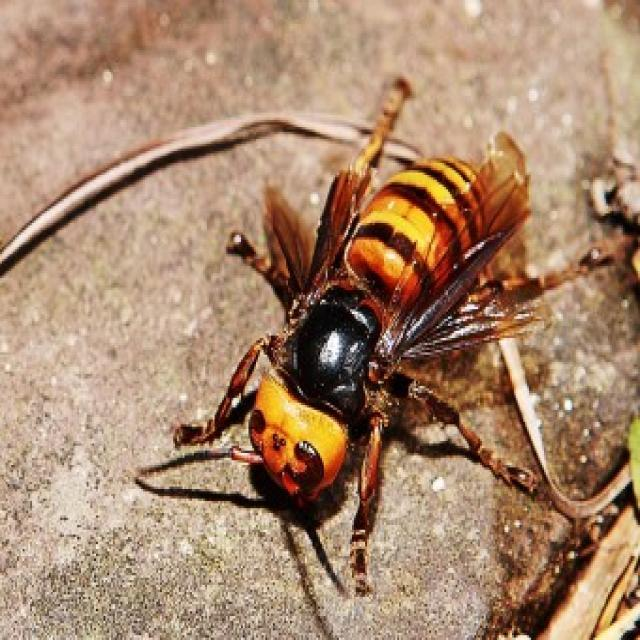Wasp: (173, 74, 546, 588)
